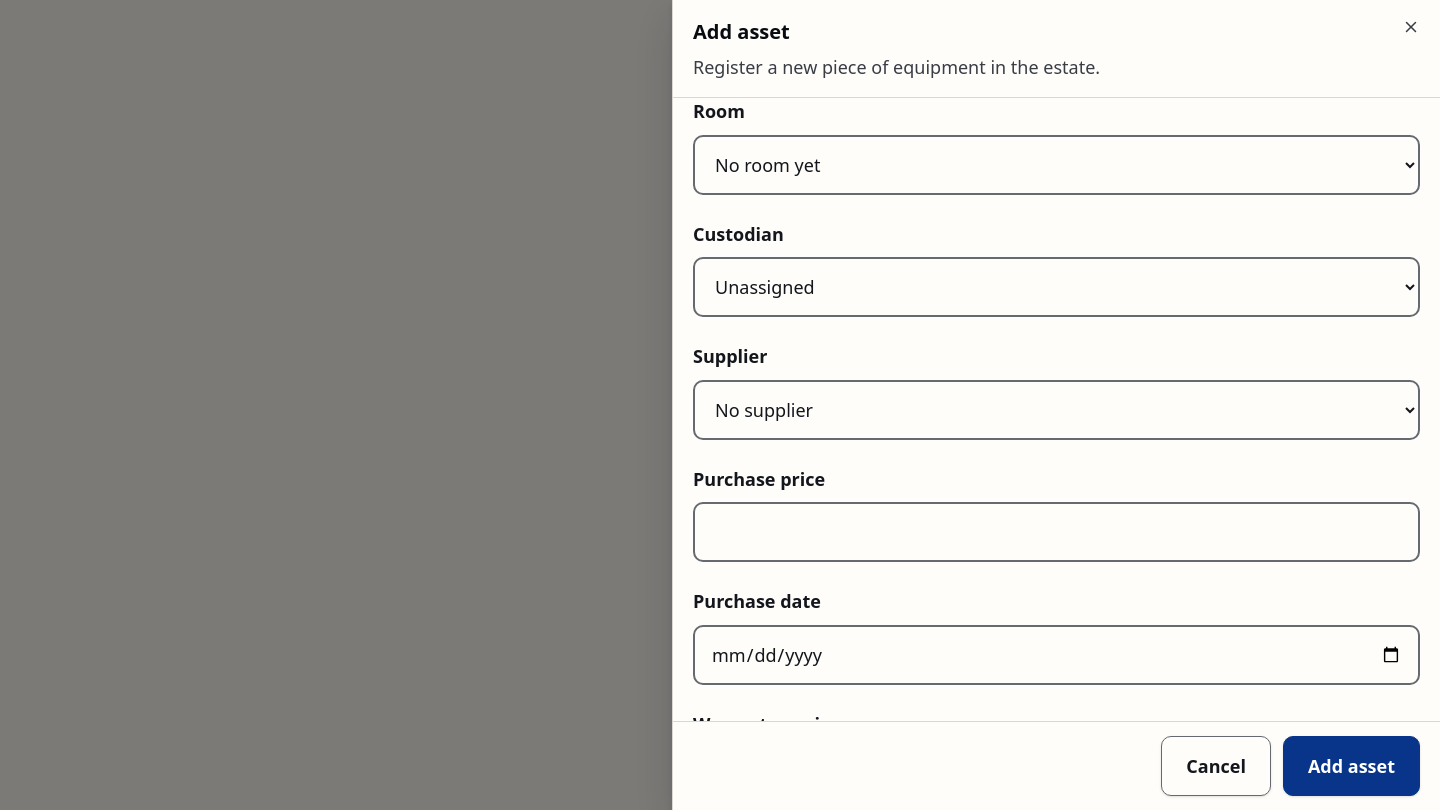
AssetFormDrawer — the owner’s option lists (DD-114) › refuses "Other" supplier with no name typed
(page scrolled)
Select "Other — type the name" in the dropdown labelled "Supplier". click: (1056, 410)
box: [693,380,1420,440]
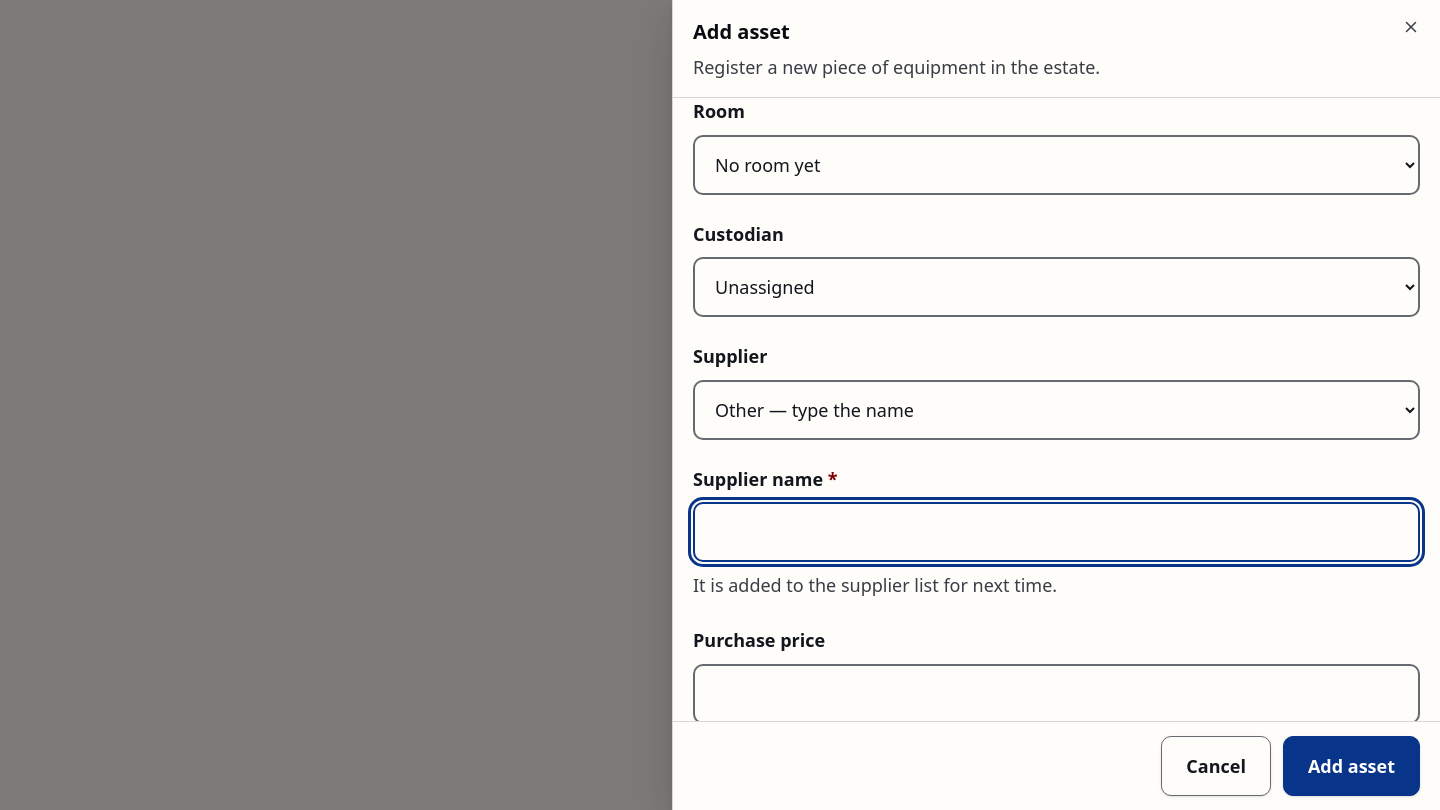
Click the button "Add asset". click: (1351, 766)
box: [1283,736,1420,796]
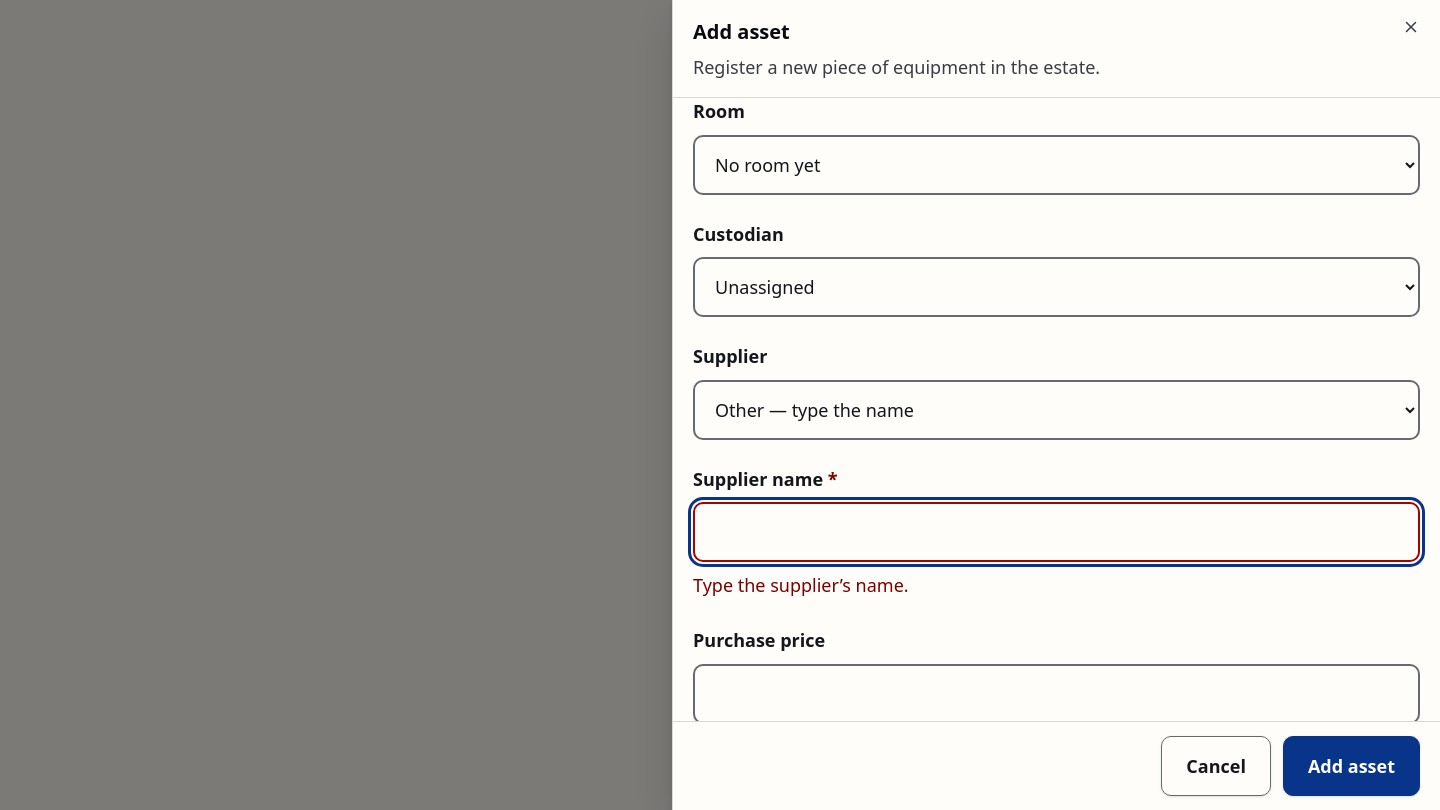
Expected: the text "Type the supplier’s name." is shown, [693,573,909,597]
